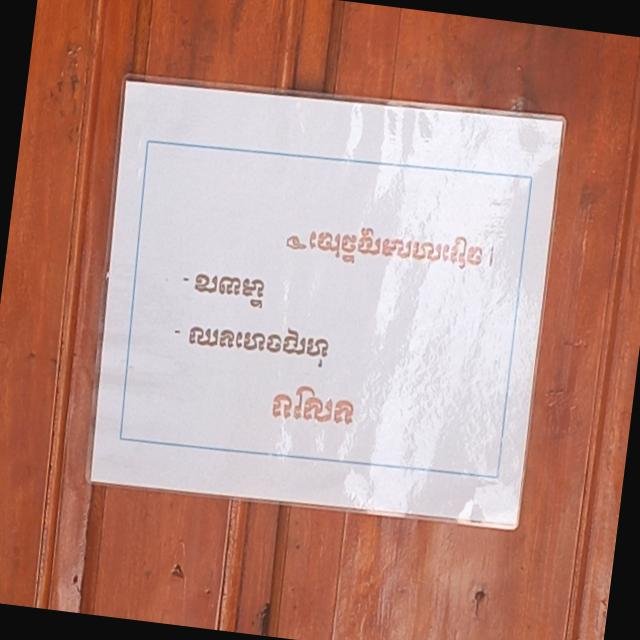Yolov11kh: (302, 214, 489, 285), (181, 313, 340, 372), (266, 378, 359, 439), (188, 268, 274, 312)
